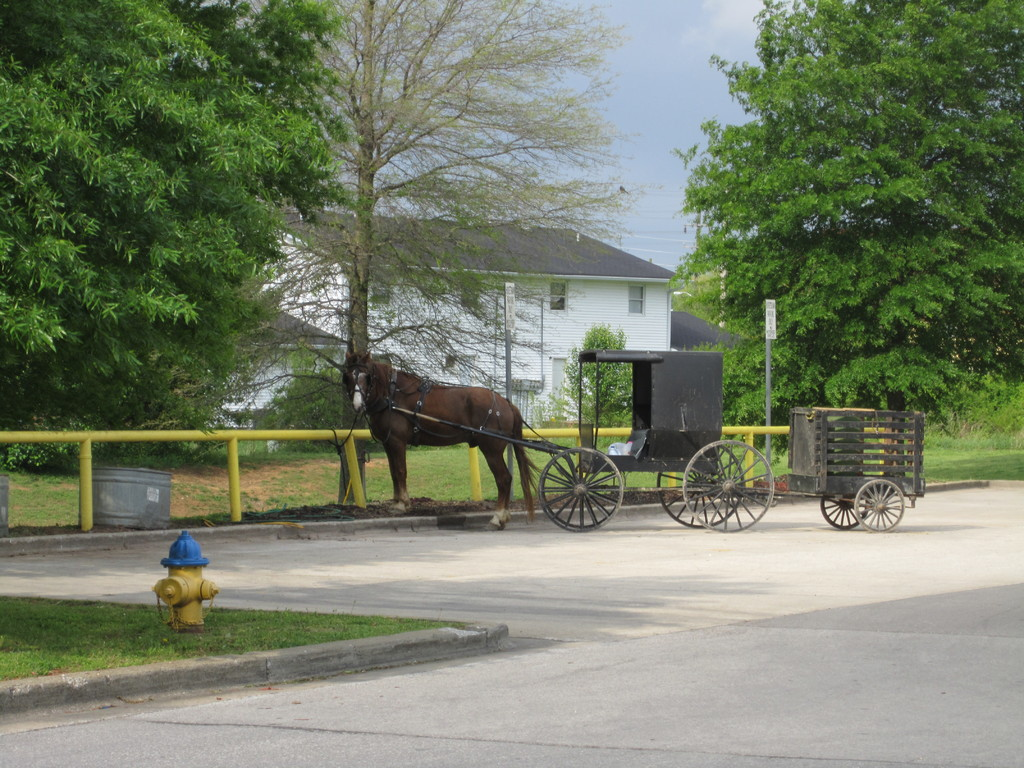horse: (341, 350, 542, 530)
